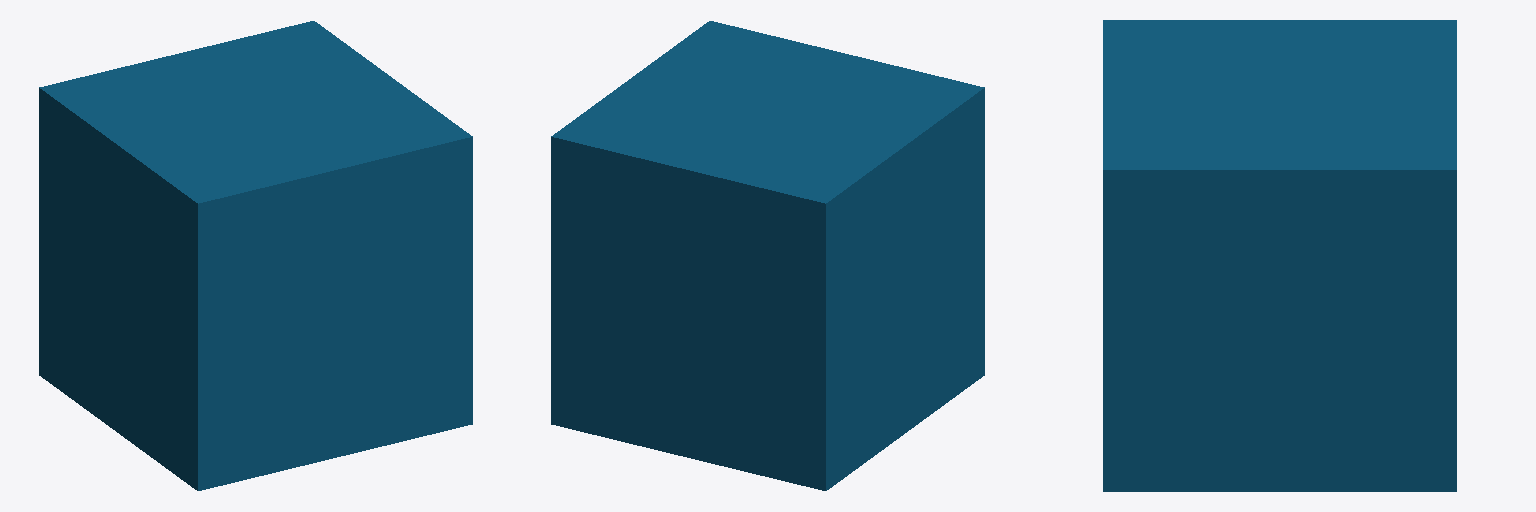
URDF robot description (beam_support):
<robot name="beam_support">
  <link name="beam_support">
    <inertial>
      <mass value="5"/>
      <origin xyz="0 0 0" rpy="0 0 0"/>
      <inertia ixx="0.01" ixy="0" ixz="0" iyy="0.01" iyz="0" izz="1"/>
    </inertial>
    <visual>
      <geometry>
        <box size="0.2 0.2 0.2" />
      </geometry>
      <material name="blue">
        <color rgba="0.11 0.42 0.56 1.0"/>
      </material>
    </visual>
    <collision>
      <geometry>
        <box size="0.2 0.2 0.2" />
      </geometry>
    </collision>
  </link>
</robot>

--- Render facts (derived) ---
The picture shows the robot from 3 angles, left to right: view 1: azimuth 30°, elevation 25°; view 2: azimuth 150°, elevation 25°; view 3: azimuth 270°, elevation 25°; orthographic projection.
Robot: beam_support — 1 links, 0 joints (none); root link beam_support; default pose: all joints at 0.
Visible links, largest first — view 1: beam_support; view 2: beam_support; view 3: beam_support.
Boxes of the visible links, <box> form: beam_support: <box>39,21,472,490</box>; beam_support: <box>551,21,984,490</box>; beam_support: <box>1103,20,1456,491</box>.
Bounding box of the posed robot: 0.2 × 0.2 × 0.2 m (x, y, z).
Geometry: primitives only (box / cylinder / sphere), no mesh files.